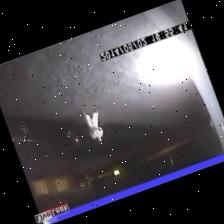person: (82, 110, 103, 141)
